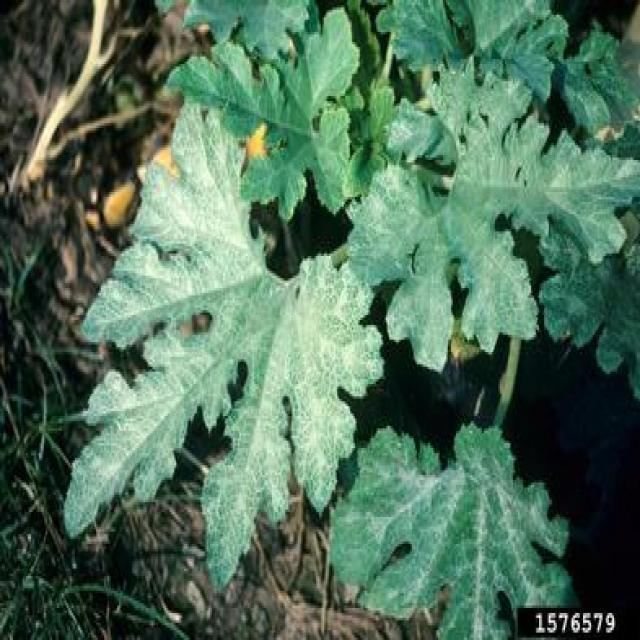Whitefly: (70, 107, 382, 587), (340, 70, 637, 373), (341, 420, 584, 640)
